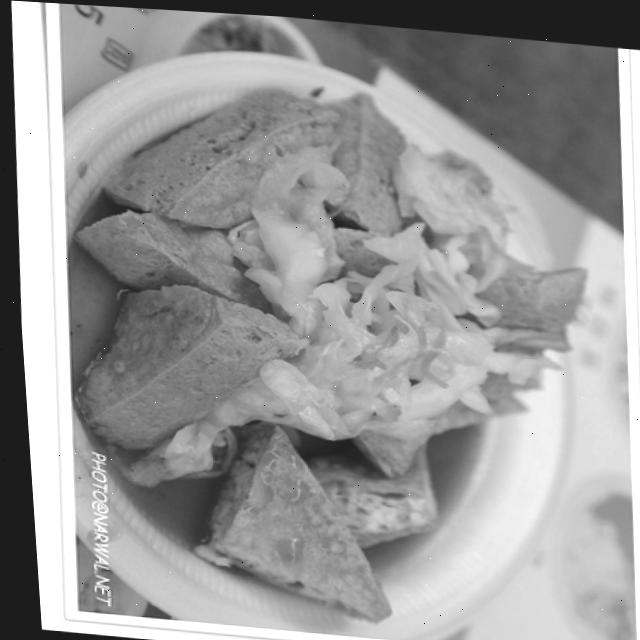豆腐料理: (54, 22, 612, 640)
